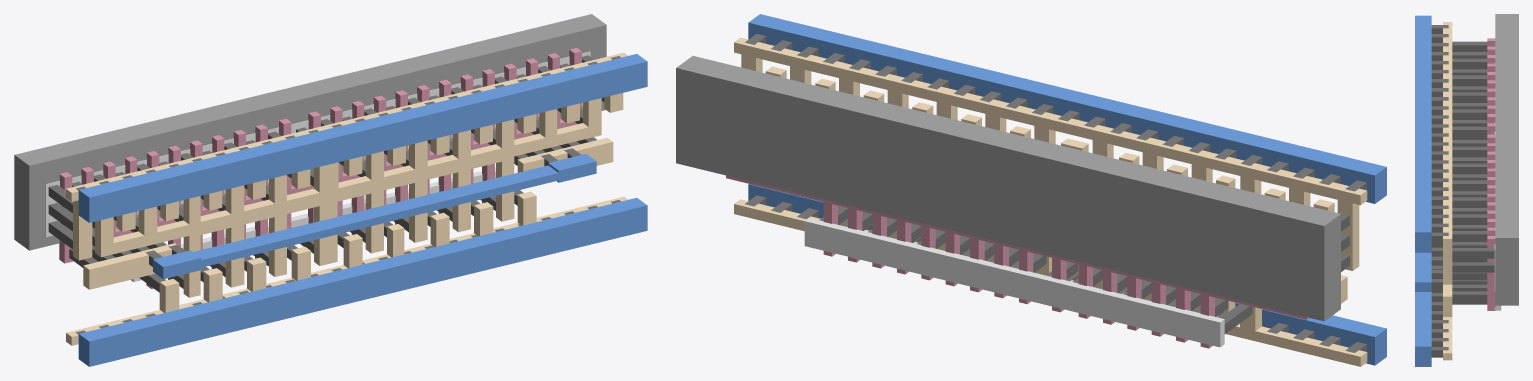
The model's file is sky130_fd_sc_hd__clkinv_16.gds.gltf.
3 renders of one model, left to right at view 1: azimuth 30°, elevation 25°; view 2: azimuth 150°, elevation 25°; view 3: azimuth 270°, elevation 25°, orthographic. The views are drawn at different scales.
Parts seen in each view (by area): view 1: sky130_fd_sc_hd__clkinv_16_met1, sky130_fd_sc_hd__clkinv_16_li1, sky130_fd_sc_hd__clkinv_16_nwell, sky130_fd_sc_hd__clkinv_16_poly, sky130_fd_sc_hd__clkinv_16_licon, sky130_fd_sc_hd__clkinv_16_diff, sky130_fd_sc_hd__clkinv_16_mcon; view 2: sky130_fd_sc_hd__clkinv_16_nwell, sky130_fd_sc_hd__clkinv_16_li1, sky130_fd_sc_hd__clkinv_16_met1, sky130_fd_sc_hd__clkinv_16_diff, sky130_fd_sc_hd__clkinv_16_poly, sky130_fd_sc_hd__clkinv_16_mcon, sky130_fd_sc_hd__clkinv_16_licon; view 3: sky130_fd_sc_hd__clkinv_16_licon, sky130_fd_sc_hd__clkinv_16_nwell, sky130_fd_sc_hd__clkinv_16_met1, sky130_fd_sc_hd__clkinv_16_mcon, sky130_fd_sc_hd__clkinv_16_li1, sky130_fd_sc_hd__clkinv_16_poly, sky130_fd_sc_hd__clkinv_16_diff.
Boxes of the visible parts, box(x1,y1,x2,y2) form: sky130_fd_sc_hd__clkinv_16_met1: box(78, 54, 647, 366); sky130_fd_sc_hd__clkinv_16_li1: box(66, 52, 628, 345); sky130_fd_sc_hd__clkinv_16_nwell: box(14, 14, 606, 250); sky130_fd_sc_hd__clkinv_16_poly: box(59, 48, 581, 288); sky130_fd_sc_hd__clkinv_16_licon: box(48, 55, 604, 292); sky130_fd_sc_hd__clkinv_16_diff: box(45, 51, 590, 281); sky130_fd_sc_hd__clkinv_16_mcon: box(75, 56, 620, 334); sky130_fd_sc_hd__clkinv_16_nwell: box(676, 56, 1340, 321); sky130_fd_sc_hd__clkinv_16_li1: box(734, 37, 1367, 366); sky130_fd_sc_hd__clkinv_16_met1: box(748, 14, 1386, 365); sky130_fd_sc_hd__clkinv_16_diff: box(804, 218, 1224, 347); sky130_fd_sc_hd__clkinv_16_poly: box(726, 175, 1308, 348); sky130_fd_sc_hd__clkinv_16_mcon: box(745, 34, 1366, 352); sky130_fd_sc_hd__clkinv_16_licon: box(744, 67, 1349, 334); sky130_fd_sc_hd__clkinv_16_licon: box(1452, 41, 1494, 304); sky130_fd_sc_hd__clkinv_16_nwell: box(1495, 14, 1518, 305); sky130_fd_sc_hd__clkinv_16_met1: box(1415, 15, 1431, 366); sky130_fd_sc_hd__clkinv_16_mcon: box(1431, 25, 1448, 357); sky130_fd_sc_hd__clkinv_16_li1: box(1443, 22, 1452, 360); sky130_fd_sc_hd__clkinv_16_poly: box(1487, 38, 1495, 310); sky130_fd_sc_hd__clkinv_16_diff: box(1494, 132, 1501, 310).
Bounding box in the file's own units: 11.42 × 3.2 × 2.24.
